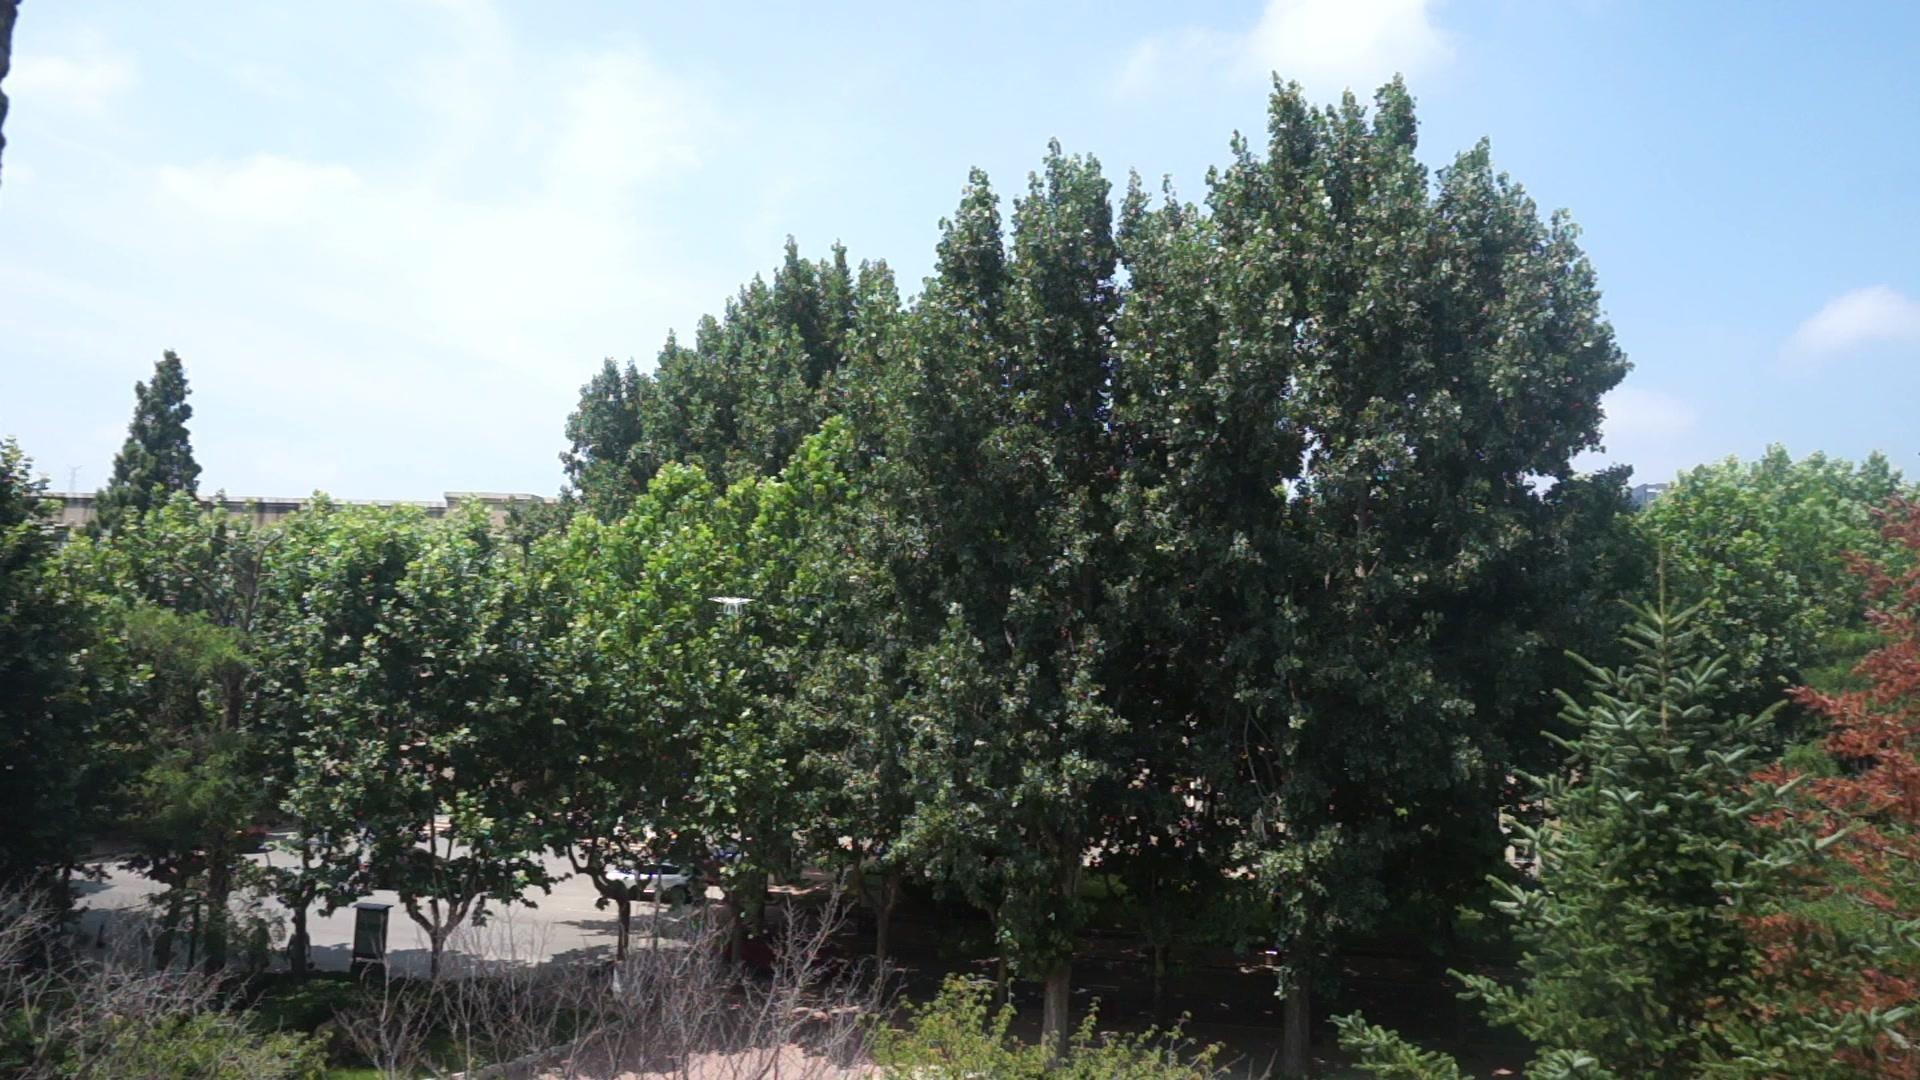UAV: (709, 597, 757, 615)
